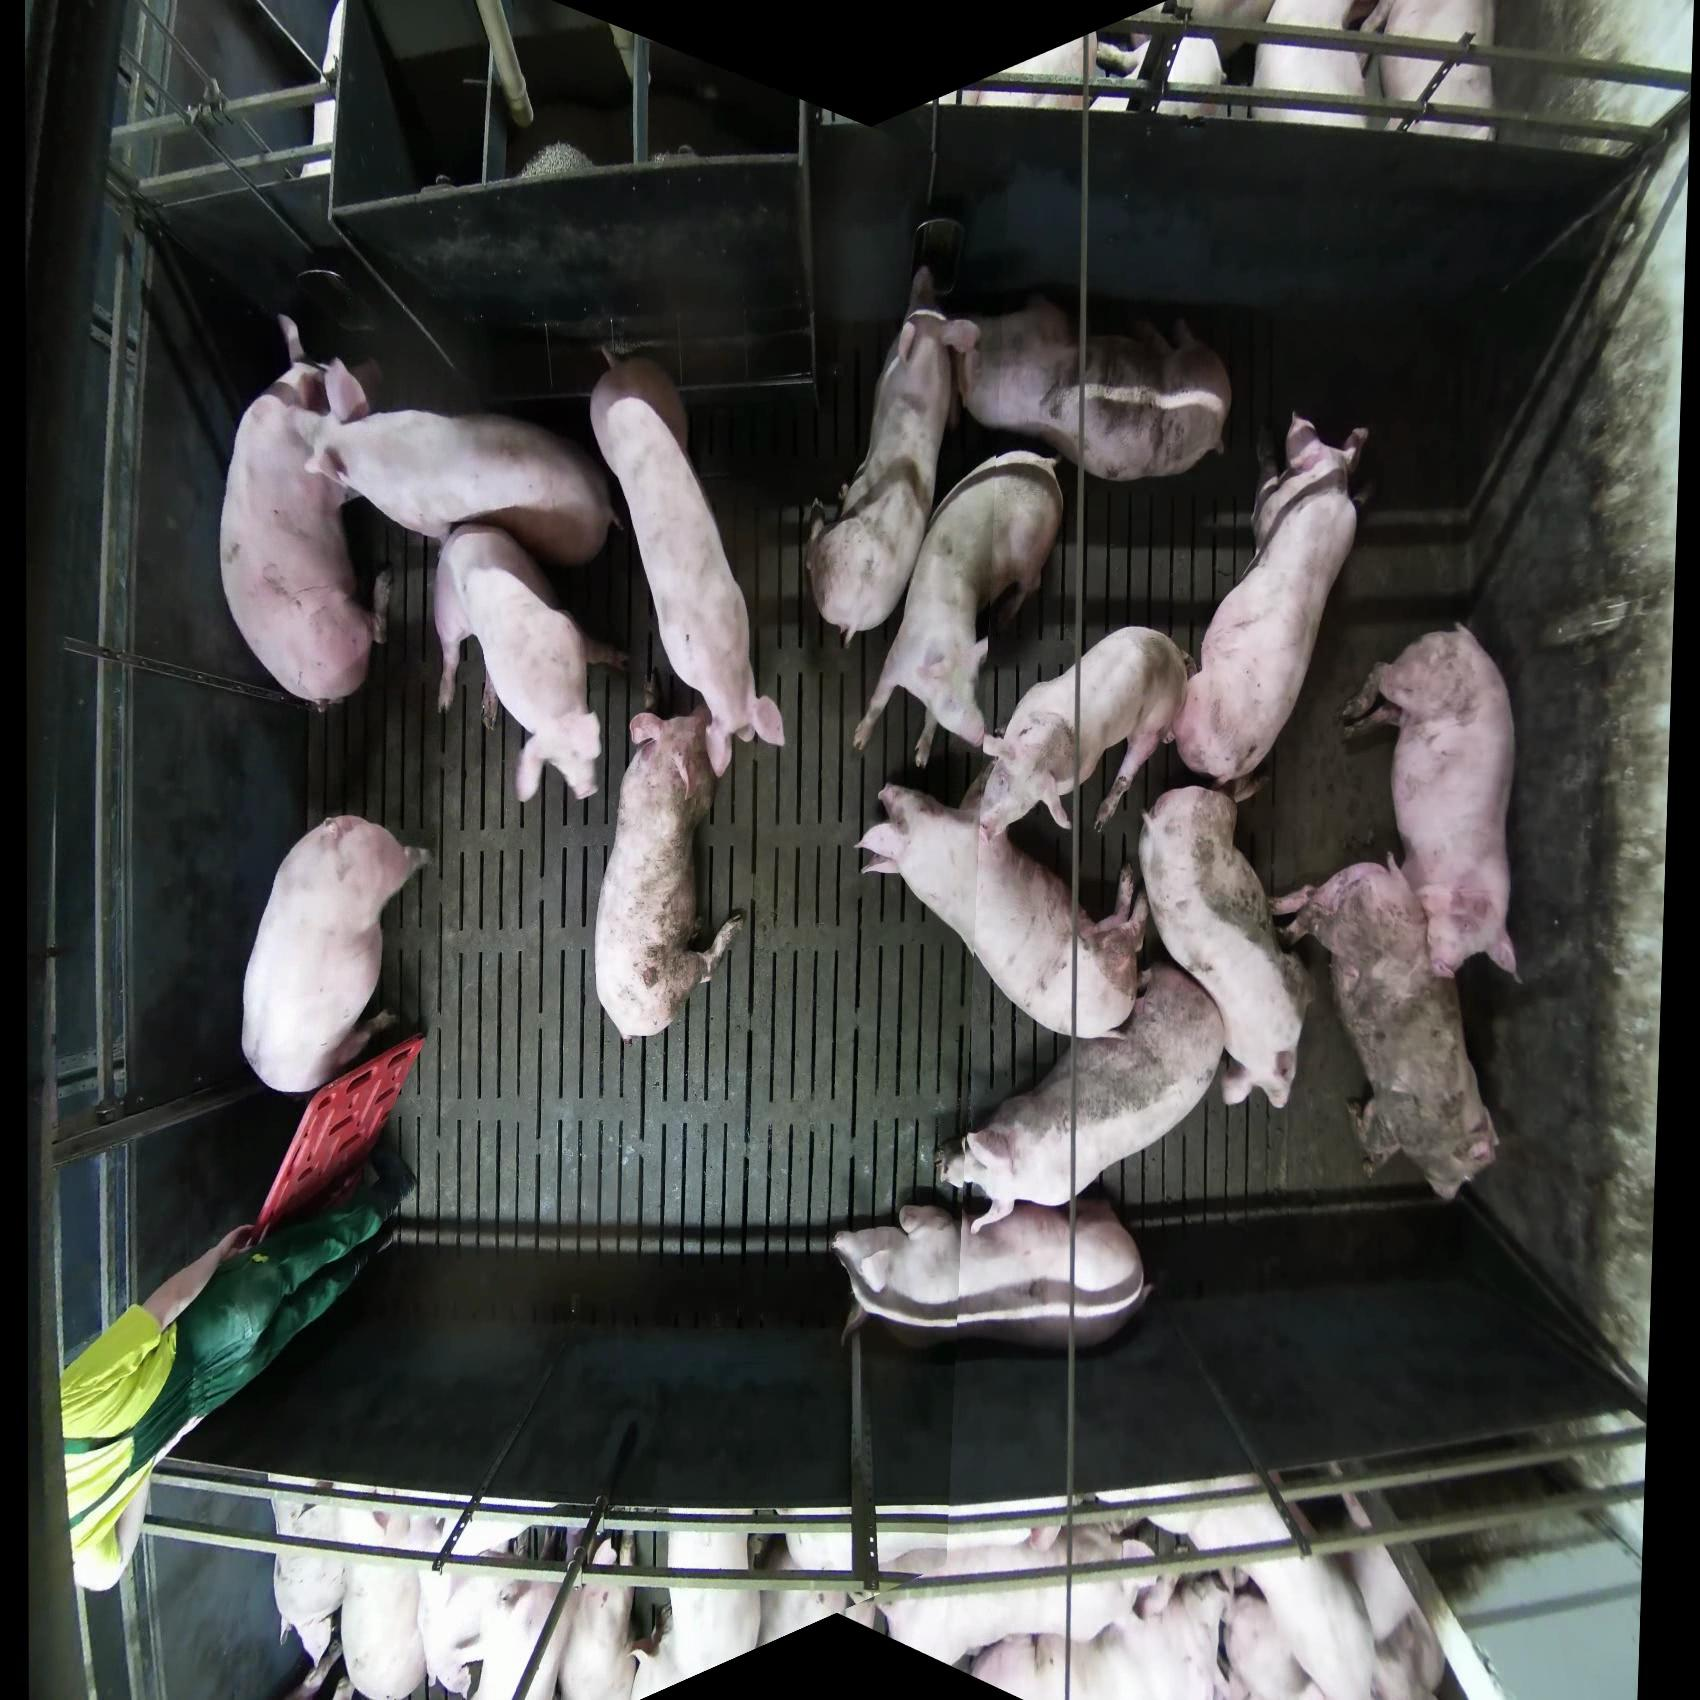pig: (269, 1487, 1450, 1700), (589, 347, 787, 778), (1271, 855, 1501, 1203), (853, 773, 1150, 1042), (934, 960, 1227, 1232), (1169, 412, 1370, 804), (217, 314, 393, 709), (849, 449, 1065, 768), (804, 265, 980, 651), (1337, 620, 1522, 986), (1137, 784, 1312, 1112), (944, 293, 1233, 483), (431, 522, 624, 805), (240, 812, 432, 1095), (830, 1192, 1151, 1352), (593, 708, 745, 1041), (303, 405, 615, 567), (977, 624, 1193, 839), (872, 1520, 1158, 1670), (270, 1488, 446, 1699), (421, 1524, 570, 1699), (629, 1526, 763, 1699), (1369, 1, 1498, 142), (960, 28, 1148, 113), (1250, 1, 1374, 129), (1160, 1, 1272, 120), (1095, 27, 1228, 120)
worker: (58, 1146, 416, 1595), (59, 1221, 261, 1594)
